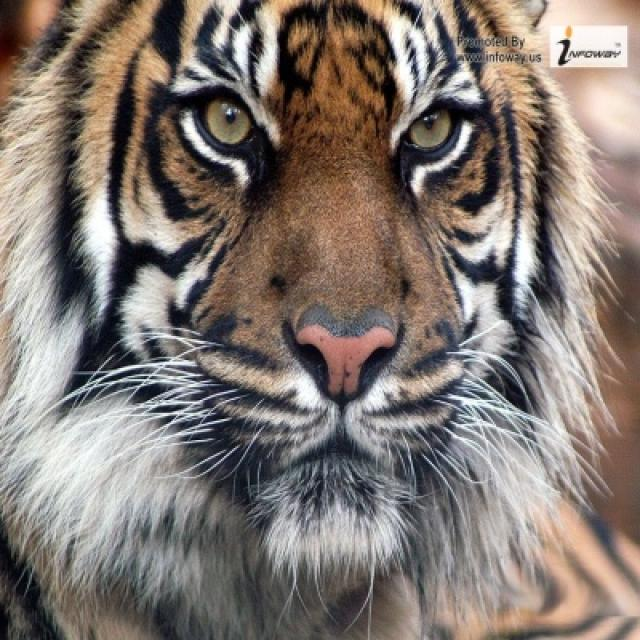Tiger: (7, 1, 638, 638)
